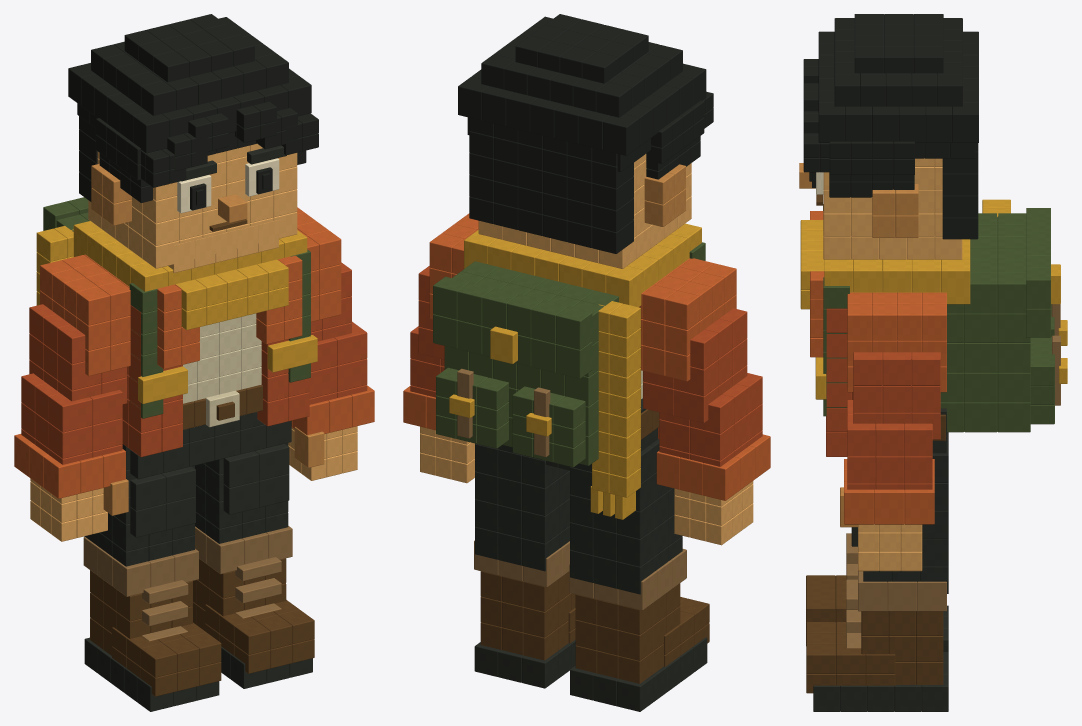
The model's file is SM_Blender_Player.glb.
3 views of the same model, side by side, from view 1: azimuth 30°, elevation 25°; view 2: azimuth 150°, elevation 25°; view 3: azimuth 270°, elevation 25° (orthographic). The views are drawn at different scales.
Visible parts, largest first — view 1: SM_Blender_Player; view 2: SM_Blender_Player; view 3: SM_Blender_Player.
Boxes of the visible parts, x1,y1,x2,y2 form: SM_Blender_Player: (14,14,374,711); SM_Blender_Player: (403,14,770,711); SM_Blender_Player: (799,14,1067,711).
Bounding box in the file's own units: 1.05 × 1.97 × 0.7536.
1 material, 1 textured.
